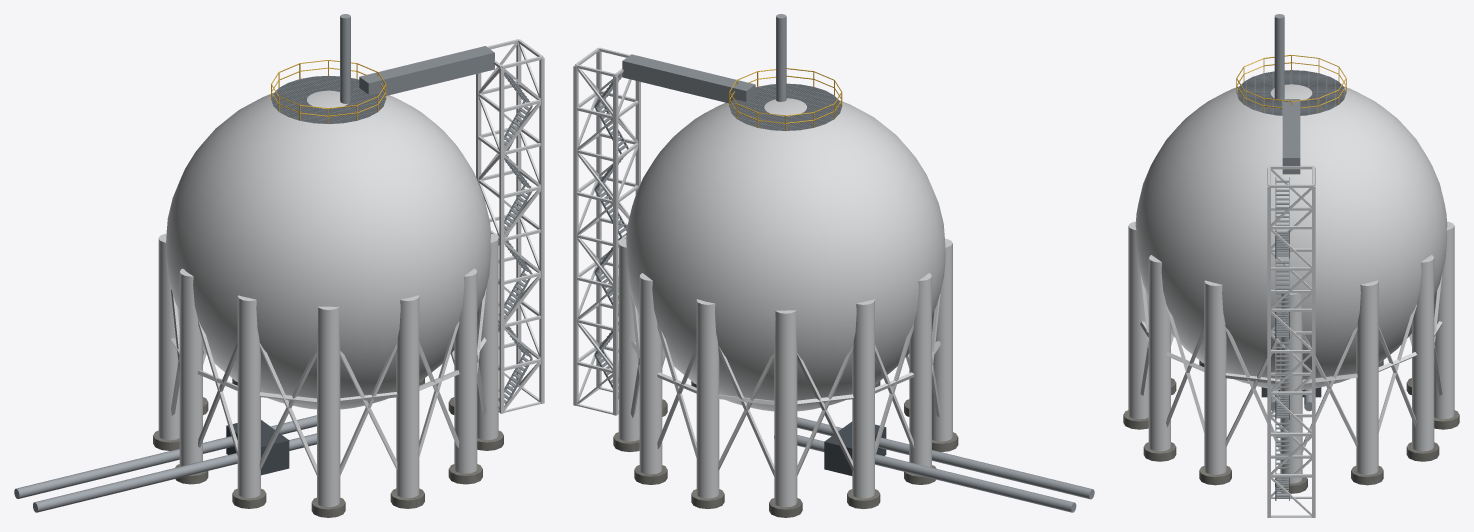
File: sphere_lox.glb
3 renders of one model, left to right at view 1: azimuth 30°, elevation 25°; view 2: azimuth 150°, elevation 25°; view 3: azimuth 270°, elevation 25°, orthographic. The views are drawn at different scales.
Visible parts, largest first — view 1: sphere_lox; view 2: sphere_lox; view 3: sphere_lox.
Part boxes in pixels (x1,y1,x2,y2): sphere_lox: (14,14,544,517); sphere_lox: (573,14,1094,517); sphere_lox: (1123,14,1459,517).
Size of the model in its own units: 37.73 by 30.6 by 22.67.
7 materials, 2 textured.
